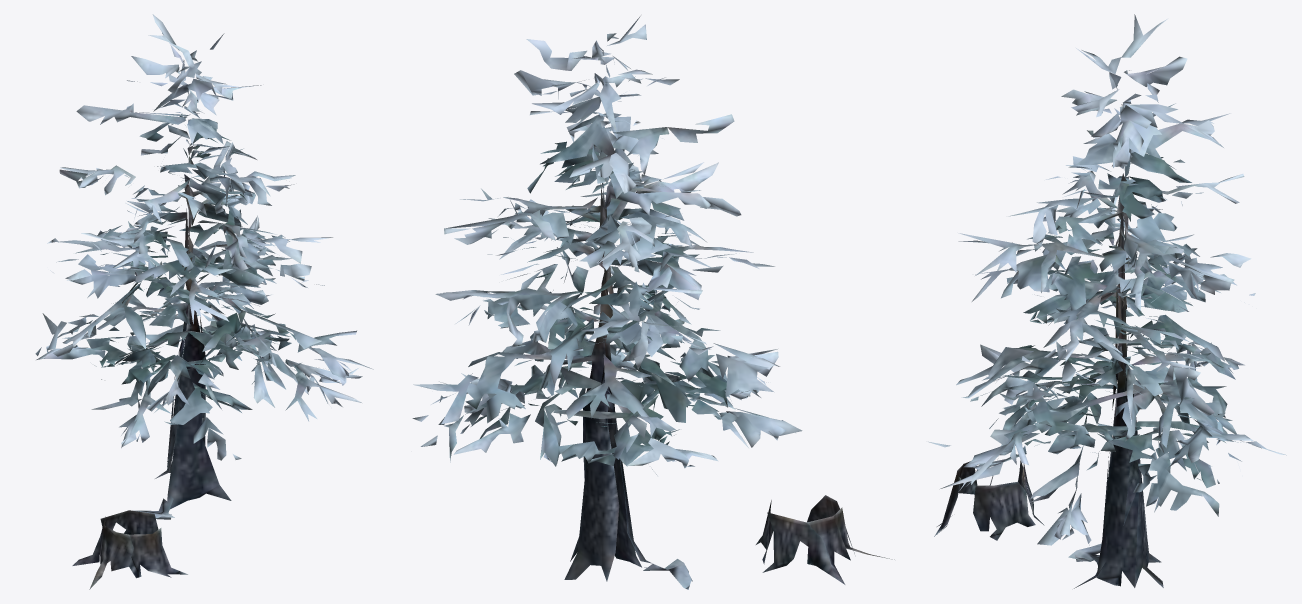
Rendered from abeto_geada_toco.glb.
The picture shows the model from 3 angles, left to right: view 1: azimuth 30°, elevation 25°; view 2: azimuth 150°, elevation 25°; view 3: azimuth 270°, elevation 25°; orthographic projection. The views are drawn at different scales.
Parts seen in each view (by area): view 1: geometry_0.005; view 2: geometry_0.005; view 3: geometry_0.005.
Part boxes in pixels (x1,y1,x2,y2): geometry_0.005: (35, 14, 373, 589); geometry_0.005: (412, 16, 894, 589); geometry_0.005: (928, 14, 1286, 588).
Size of the model in its own units: 0.6159 by 0.8805 by 0.5173.
Materials: 1 (1 with a texture image).
